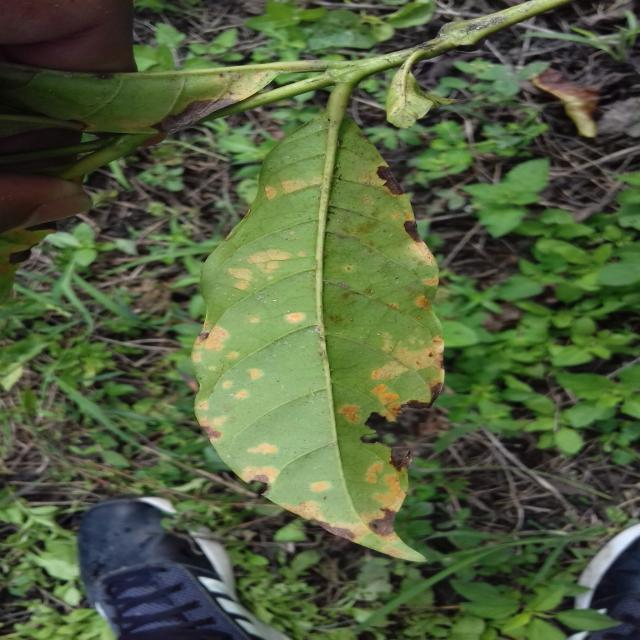Enfermedad-Roya: (194, 122, 443, 559)
